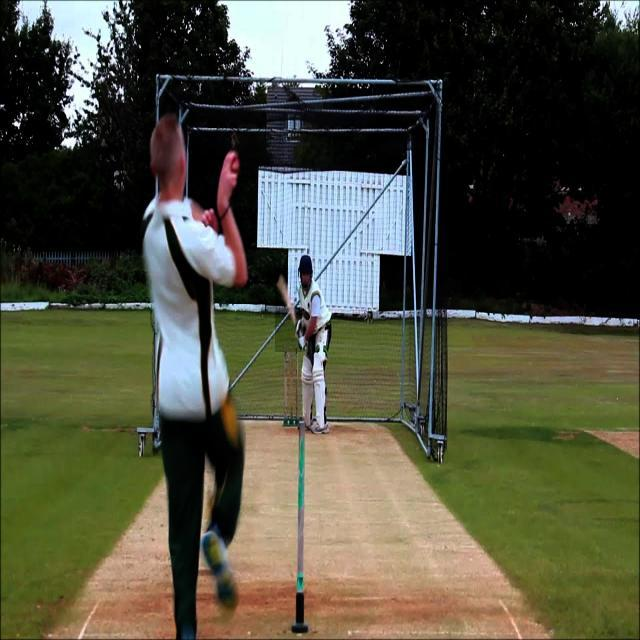bat: (277, 275, 298, 330)
